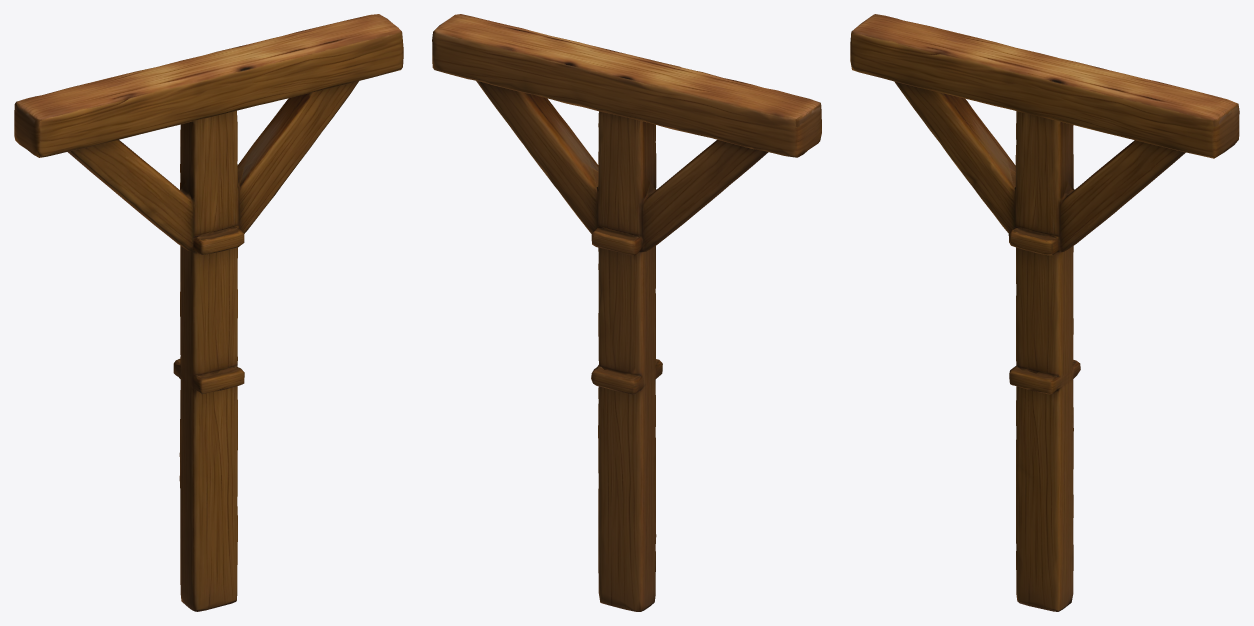
The picture shows the model from 3 angles, left to right: view 1: azimuth 30°, elevation 25°; view 2: azimuth 150°, elevation 25°; view 3: azimuth 330°, elevation 25°; orthographic projection.
Visible parts, largest first — view 1: Wooden support beam; view 2: Wooden support beam; view 3: Wooden support beam.
Boxes of the visible parts, bbox=[...] form: Wooden support beam: bbox=[14, 14, 403, 611]; Wooden support beam: bbox=[432, 14, 821, 611]; Wooden support beam: bbox=[850, 14, 1239, 611].
Size of the model in its own units: 1.37 by 1.92 by 0.1904.
Materials: 1 (1 with a texture image).
